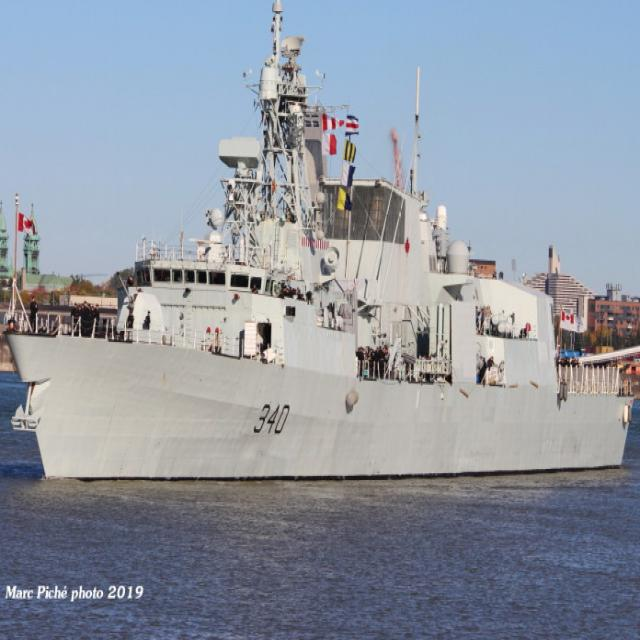Fragata: (3, 1, 640, 493)
